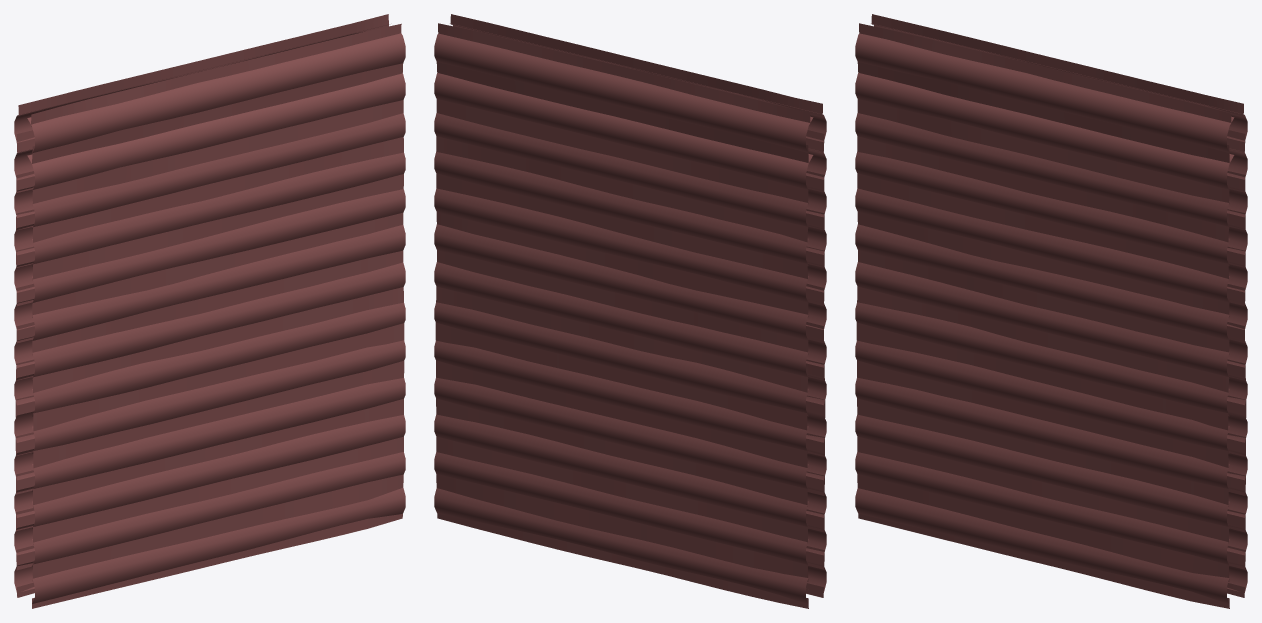
The model's file is Wall_Blank.fbx.
The picture shows the model from 3 angles, left to right: view 1: azimuth 30°, elevation 25°; view 2: azimuth 150°, elevation 25°; view 3: azimuth 330°, elevation 25°; orthographic projection.
Parts seen in each view (by area): view 1: Wall_Blank034; view 2: Wall_Blank034; view 3: Wall_Blank034.
Part boxes in pixels (x1,y1,x2,y2): Wall_Blank034: [14, 14, 405, 608]; Wall_Blank034: [434, 14, 826, 608]; Wall_Blank034: [855, 14, 1247, 608].
Bounding box in the file's own units: 200 × 255 × 19.32.
